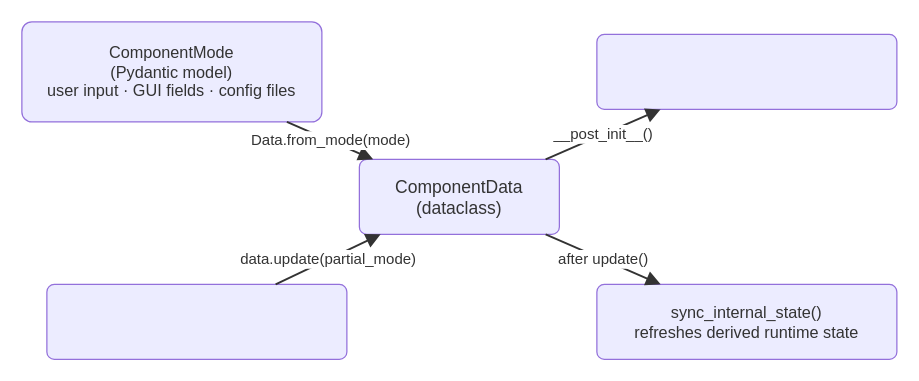
The diagram is 919 pixels wide and 381 high, and some of its shapes have lost their labels. The centre of each missing label's shape, as x and y in pixels:
edited ComponentMode (a changed field): point (196, 321)
internal_structure() builds ports, internal edges, inventories: point (746, 71)
